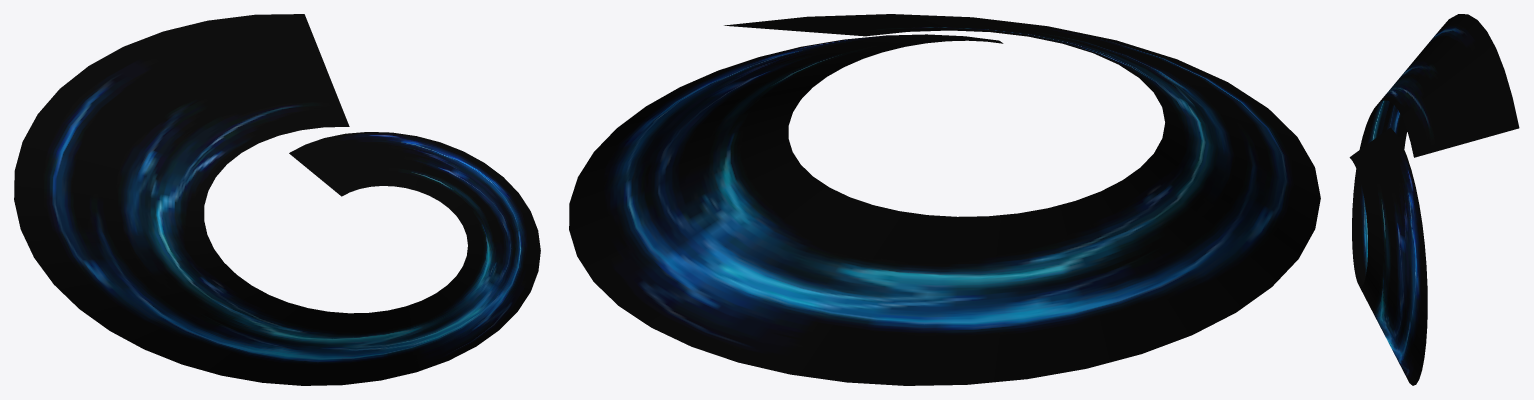
The picture shows the model from 3 angles, left to right: view 1: azimuth 30°, elevation 25°; view 2: azimuth 150°, elevation 25°; view 3: azimuth 270°, elevation 25°; orthographic projection. The views are drawn at different scales.
Visible parts, largest first — view 1: Helix01; view 2: Helix01; view 3: Helix01.
Boxes of the visible parts, x1,y1,x2,y2 form: Helix01: [14, 14, 540, 385]; Helix01: [569, 14, 1320, 385]; Helix01: [1349, 14, 1519, 385].
Bounding box in the file's own units: 23.84 × 14.89 × 9.19.
1 material, 1 textured.
